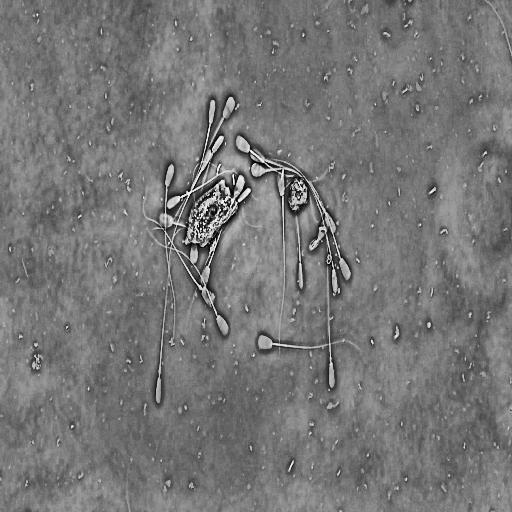coiled-tail: (310, 238, 321, 251)
dirt-particles: (181, 177, 244, 249), (288, 173, 310, 216)
normal: (145, 224, 229, 339), (141, 184, 217, 311), (281, 158, 353, 284), (173, 97, 217, 219), (236, 132, 343, 180), (167, 168, 259, 212), (153, 229, 175, 409), (190, 160, 227, 264), (258, 331, 370, 357), (275, 169, 288, 358), (164, 163, 177, 347), (325, 234, 337, 393), (294, 203, 305, 293), (308, 217, 332, 253)
proximal-droplet: (198, 285, 202, 291), (159, 365, 161, 375)
